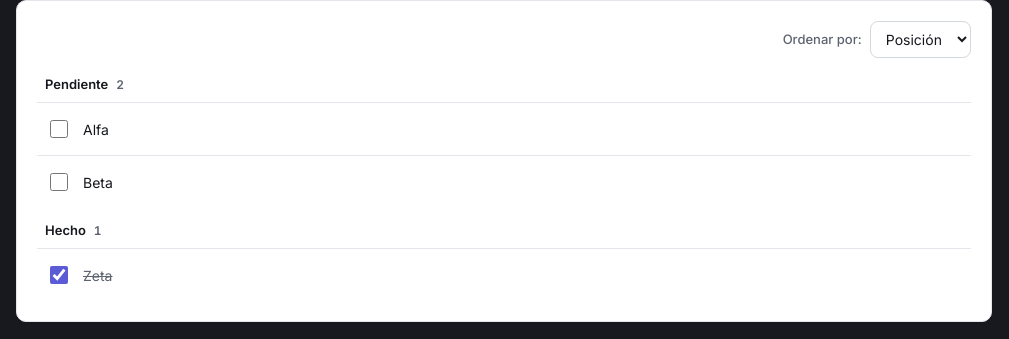
Test: ListaTareas › agrupa por columna en orden de posición y pliega y despliega un grupo
Expected: the button "Hecho 1" is shown, [37,212,971,248]
Click the button "Pendiente 2".
click(77, 84)  # box [37,66,971,102]
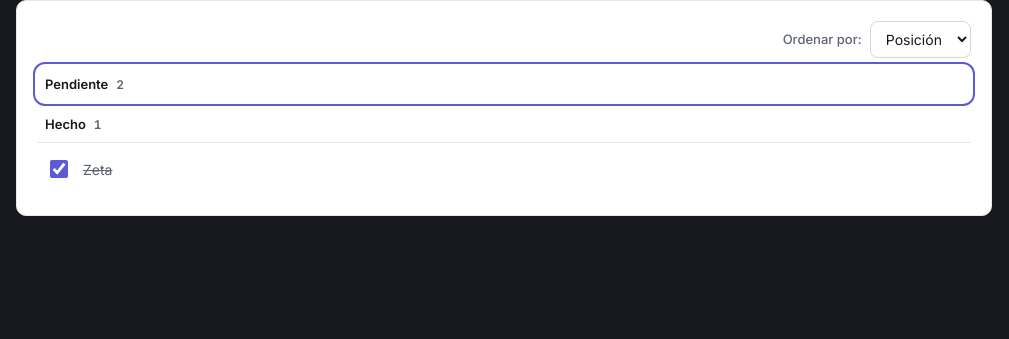
Expected: the link "Zeta" is shown, [83,160,112,178]
Result: the link "Alfa" is gone
Click the button "Pendiente 2".
click(77, 84)  # box [37,66,971,102]
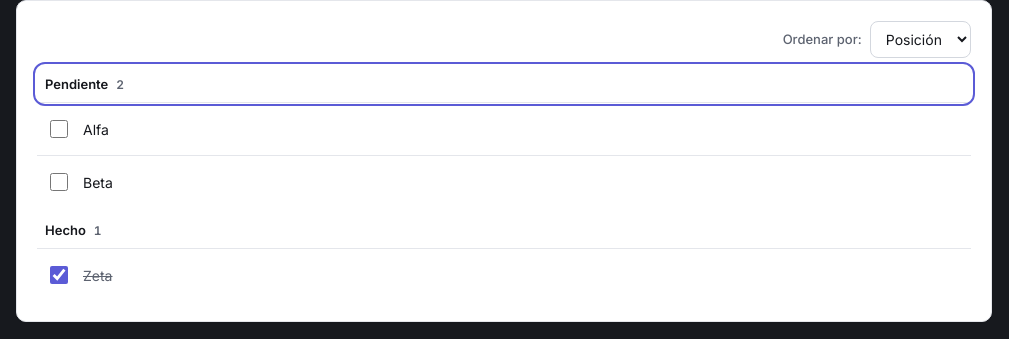
Result: the link "Alfa" is shown at [83,120,109,138]
